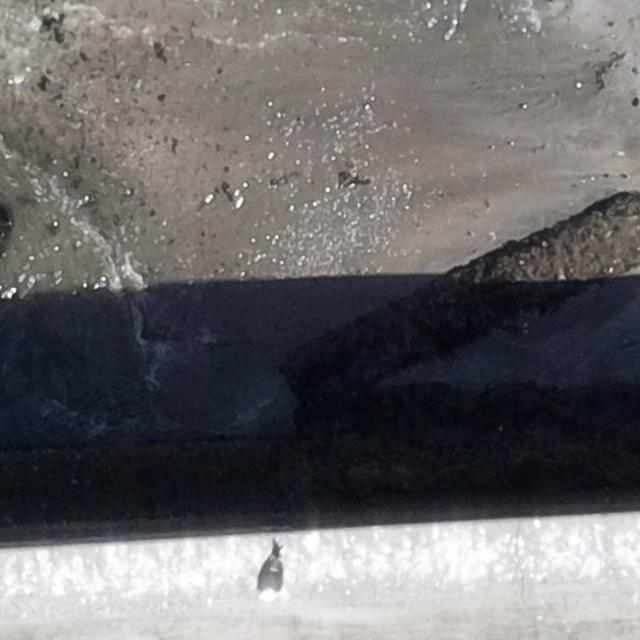umineko: (260, 561, 281, 599)
